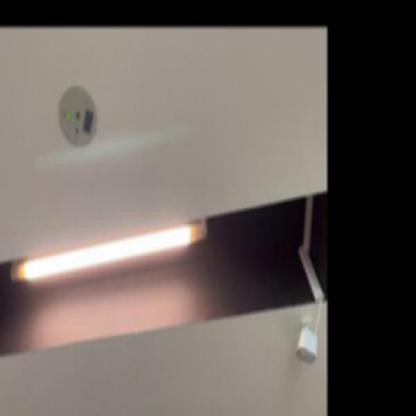light_on: (12, 207, 214, 299)
